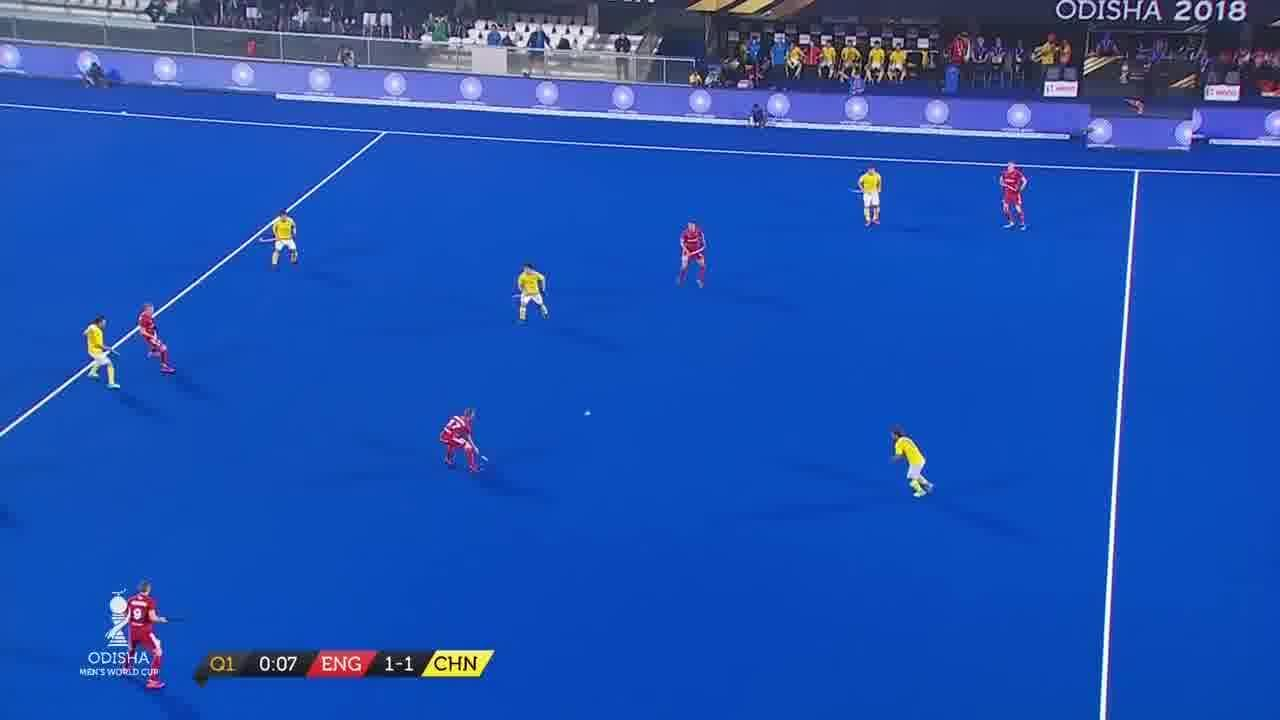ball: (584, 409, 594, 420)
